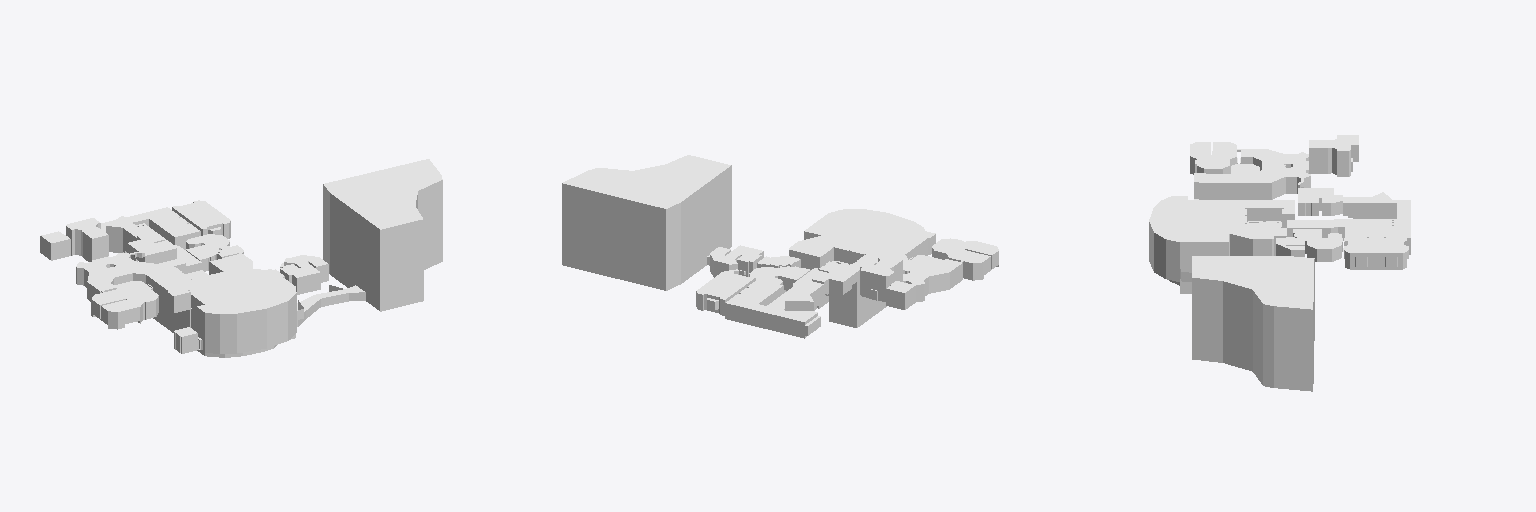
The model's file is strife1_MAP01.obj.
3 views of the same model, side by side, from view 1: azimuth 30°, elevation 25°; view 2: azimuth 150°, elevation 25°; view 3: azimuth 270°, elevation 25° (orthographic).
Parts seen in each view (by area): view 1: MAP01; view 2: MAP01; view 3: MAP01.
Part boxes in pixels (x1,y1,x2,y2): MAP01: (40,159,442,357); MAP01: (562,155,998,338); MAP01: (1149,135,1410,391).
Size of the model in its own units: 5888 by 1280 by 3520.